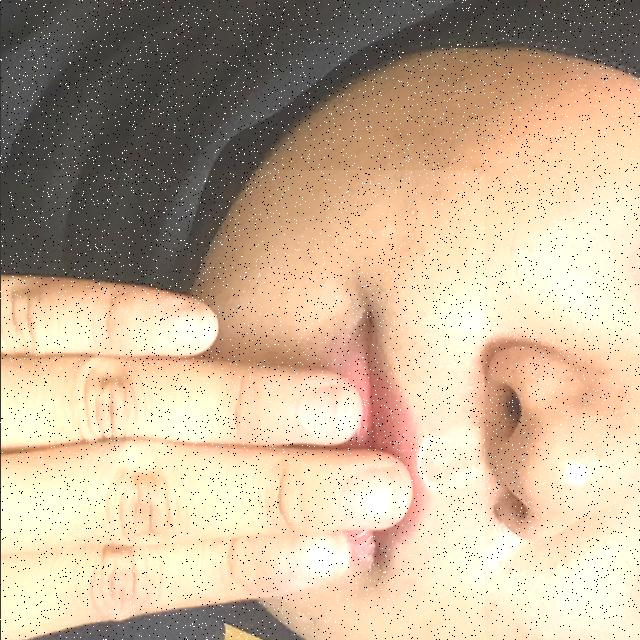ganteng: (0, 170, 484, 640)
